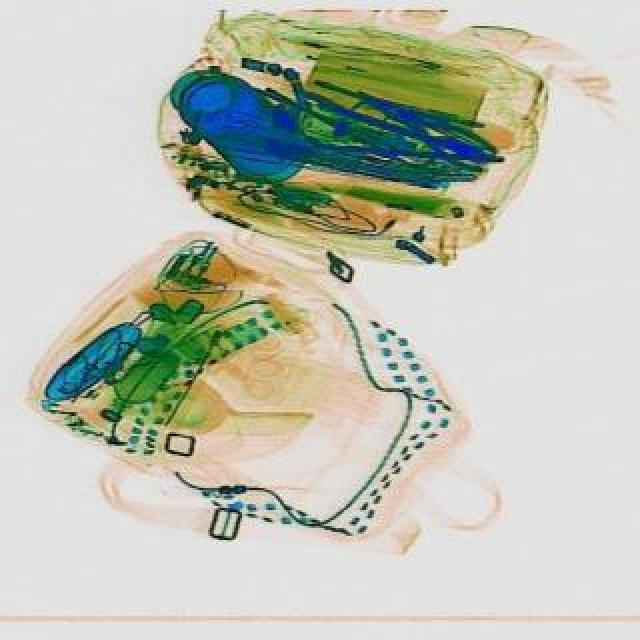wrench: (362, 84, 502, 182)
